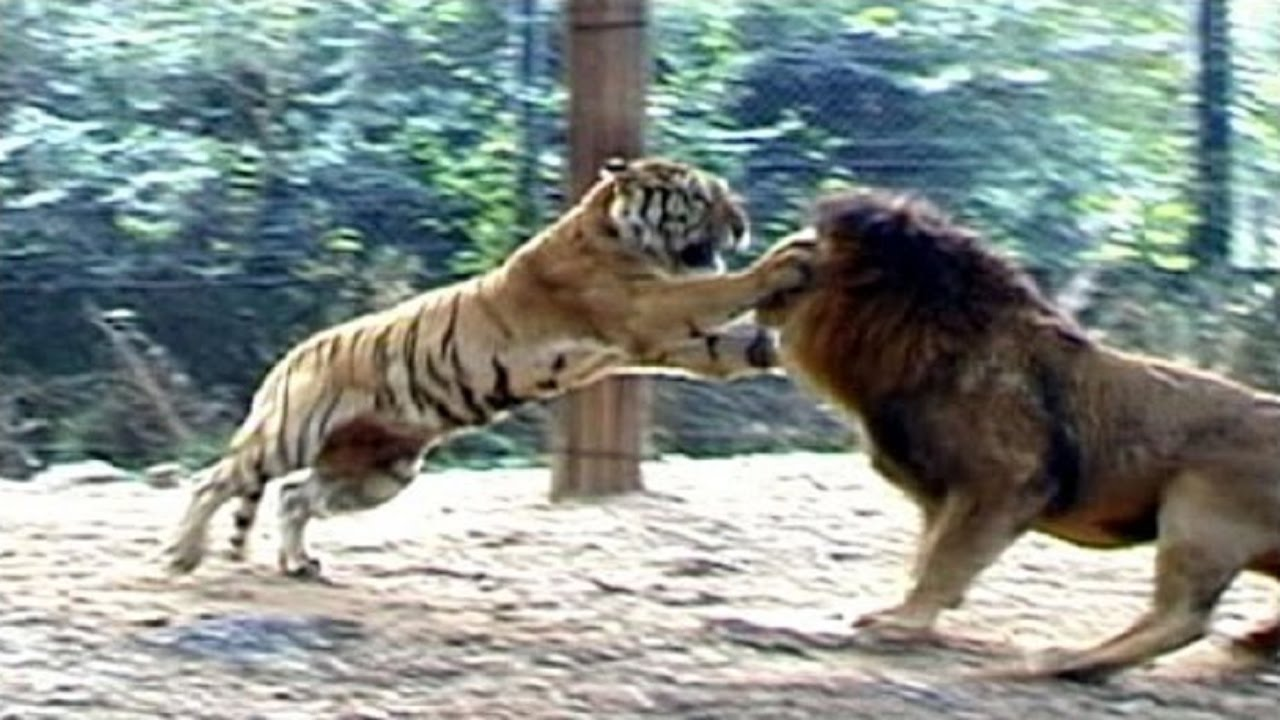lion: (762, 188, 1280, 677)
tiger: (186, 156, 818, 564)
